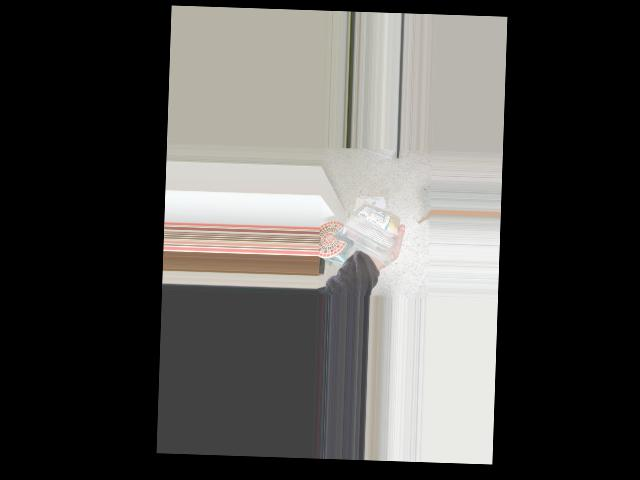cheese: (330, 190, 399, 266)
